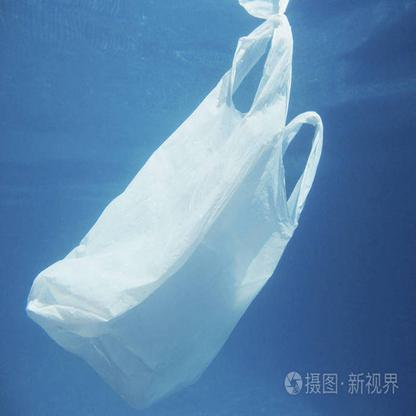plastic bag: (26, 1, 322, 406)
